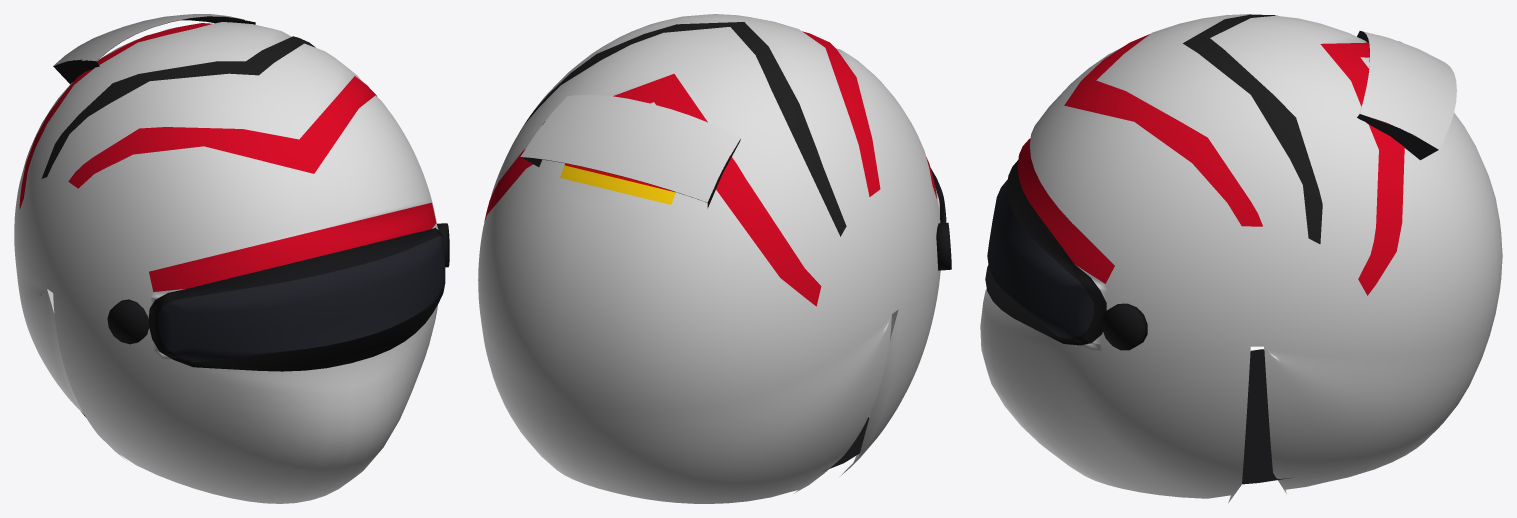
Rendered from HUL.glb.
3 renders of one model, left to right at view 1: azimuth 30°, elevation 25°; view 2: azimuth 150°, elevation 25°; view 3: azimuth 270°, elevation 25°, orthographic. The views are drawn at different scales.
Parts seen in each view (by area): view 1: helmet; view 2: helmet; view 3: helmet.
Boxes of the visible parts, x1=… form: helmet: x1=14, y1=14, x2=449, y2=503; helmet: x1=478, y1=14, x2=951, y2=503; helmet: x1=980, y1=14, x2=1502, y2=503.
Size of the model in its own units: 0.256 by 0.2772 by 0.3111.
